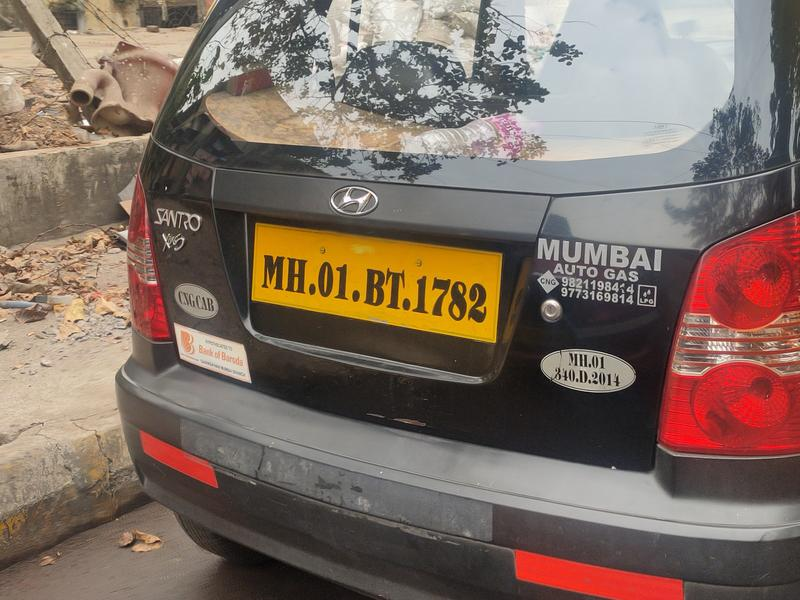license_plate: (242, 210, 515, 366)
